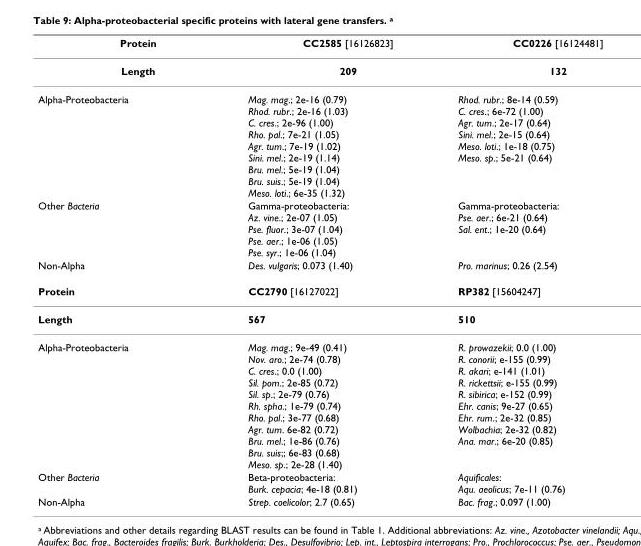table: (37, 36, 602, 507)
table column: (201, 36, 424, 507), (424, 36, 602, 507), (37, 36, 201, 507)
table column header: (37, 36, 602, 56)
table row: (37, 332, 602, 470), (37, 84, 602, 198), (37, 198, 602, 258), (37, 56, 602, 84), (37, 304, 602, 332), (37, 277, 602, 304), (37, 470, 602, 494), (37, 36, 602, 56), (37, 258, 602, 277), (37, 494, 602, 507)
